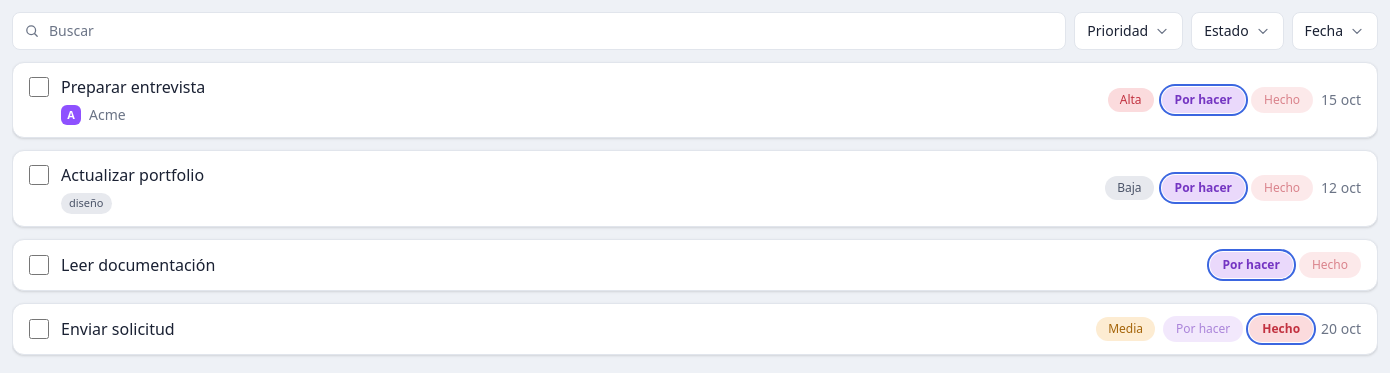
Test: BoardListView › búsqueda y filtros › sin resultados, permite quitar los filtros
Type "nada de esto" into the search field named "Buscar tareas" at [539, 31], box [12,12,1066,50]
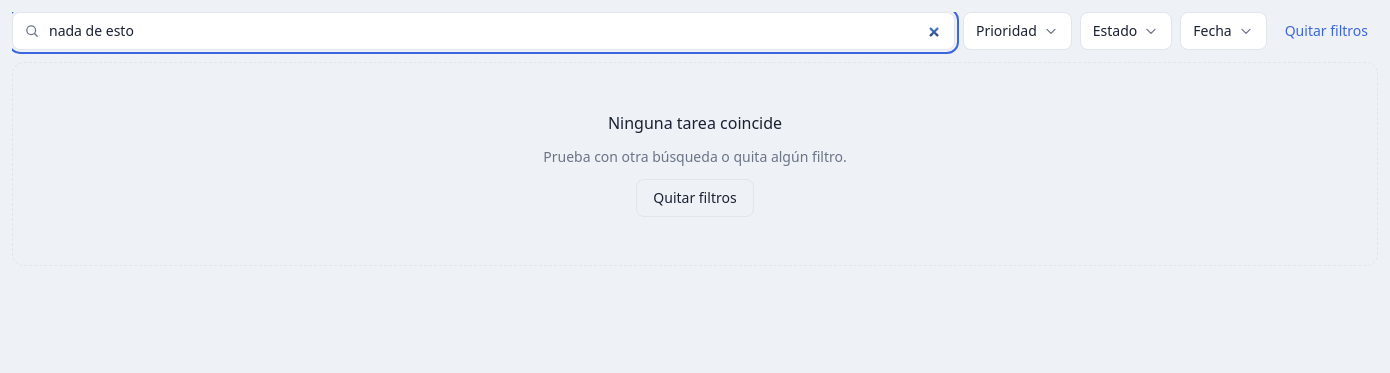
expect the text "Ninguna tarea coincide" is shown: met, box [608,111,782,135]
Click the 1st button "Quitar filtros" at [1326, 31], box [1275,12,1378,50]
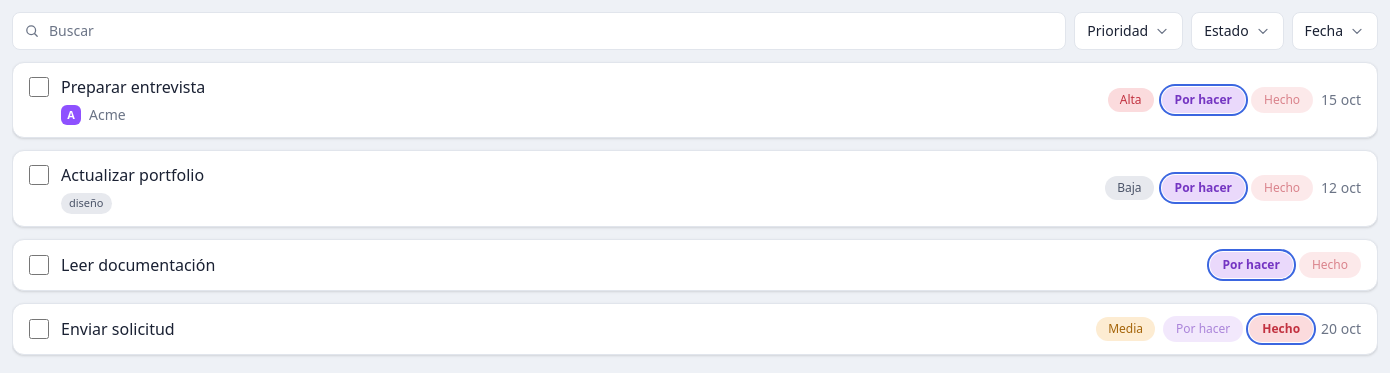
expect the number of list items is 4: met, box [12,62,1378,138]; [12,150,1378,226]; [12,238,1378,290]; [12,302,1378,354]
